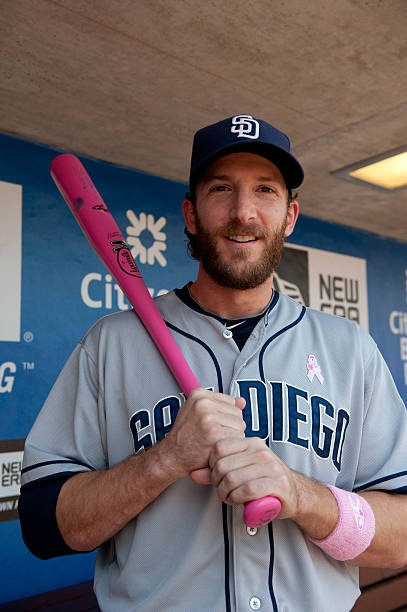bita: (48, 150, 275, 524)
